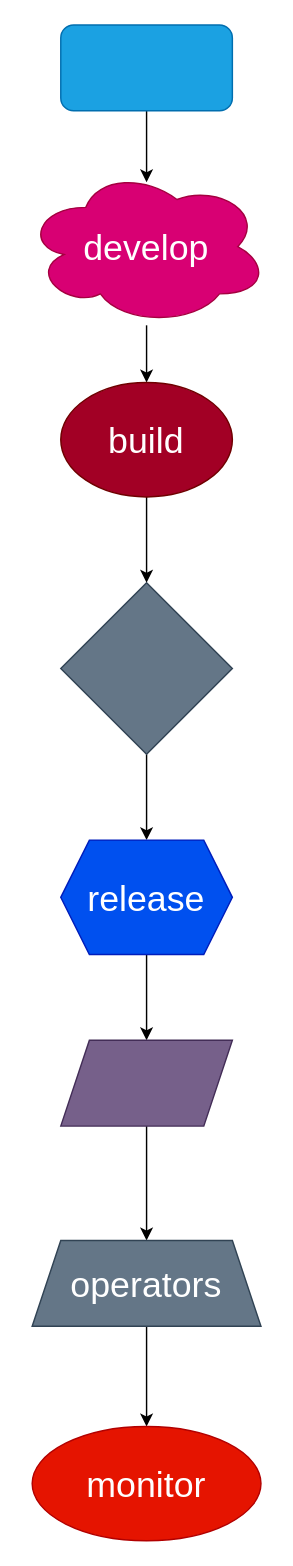
This 293x1566 diagram has some shape labels left out. Here are the shapes that lost their labels. From the top down, the centre of each, then its label:
At point (145, 67): "plan".
At point (145, 667): "test".
At point (145, 1082): "deploy".
